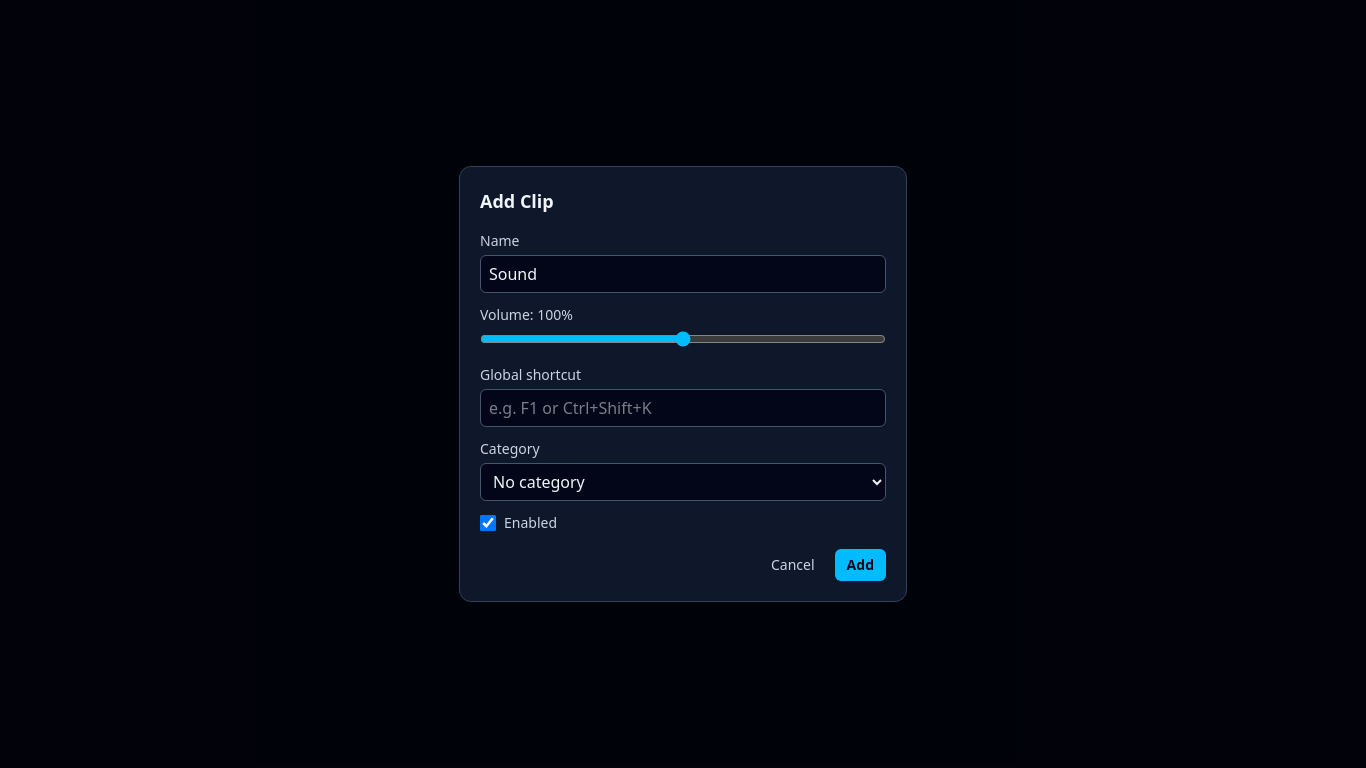
Test case: ClipDialog (create mode) › empty name shows an error and does not import
The width and height of the screenshot is (1366, 768).
Clear the field labelled "Name" at (683, 274), box [480,255,886,293]
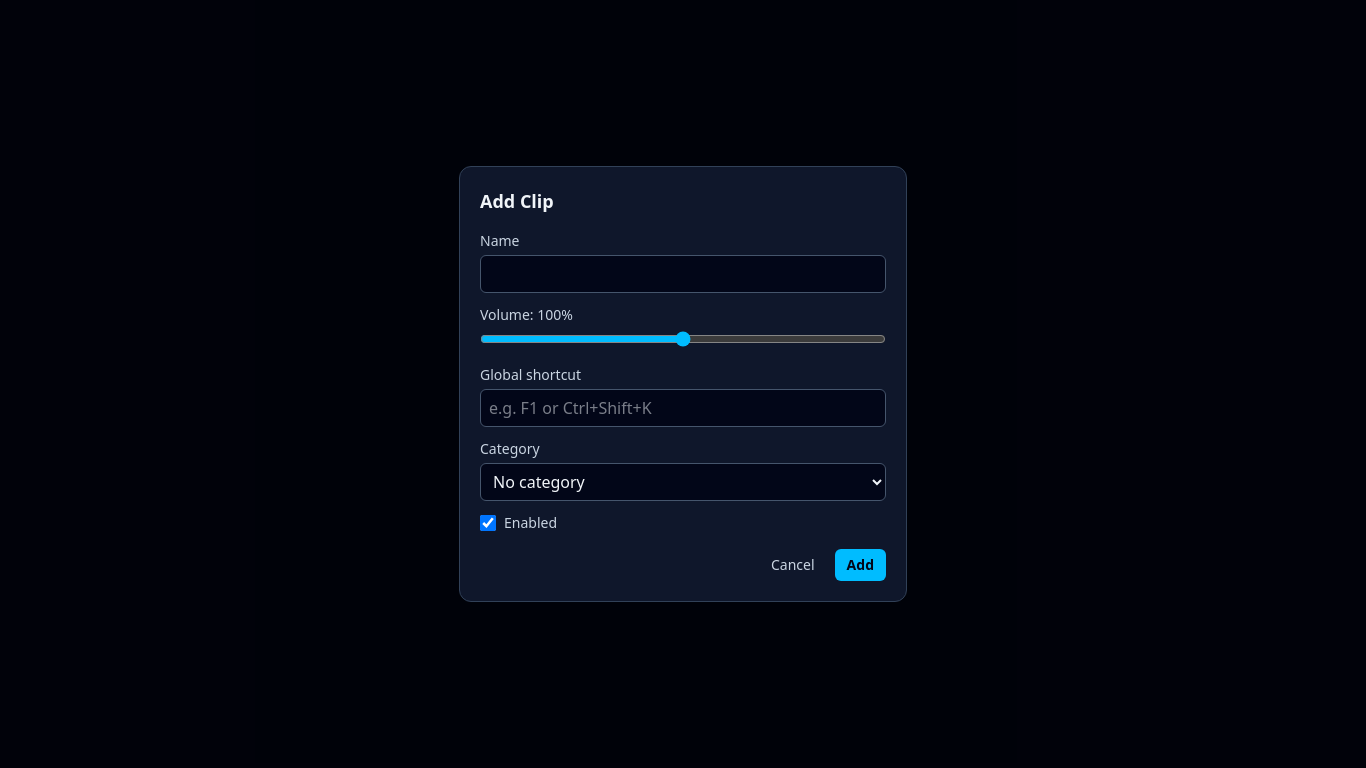
Submit the form, box [459,166,907,602]
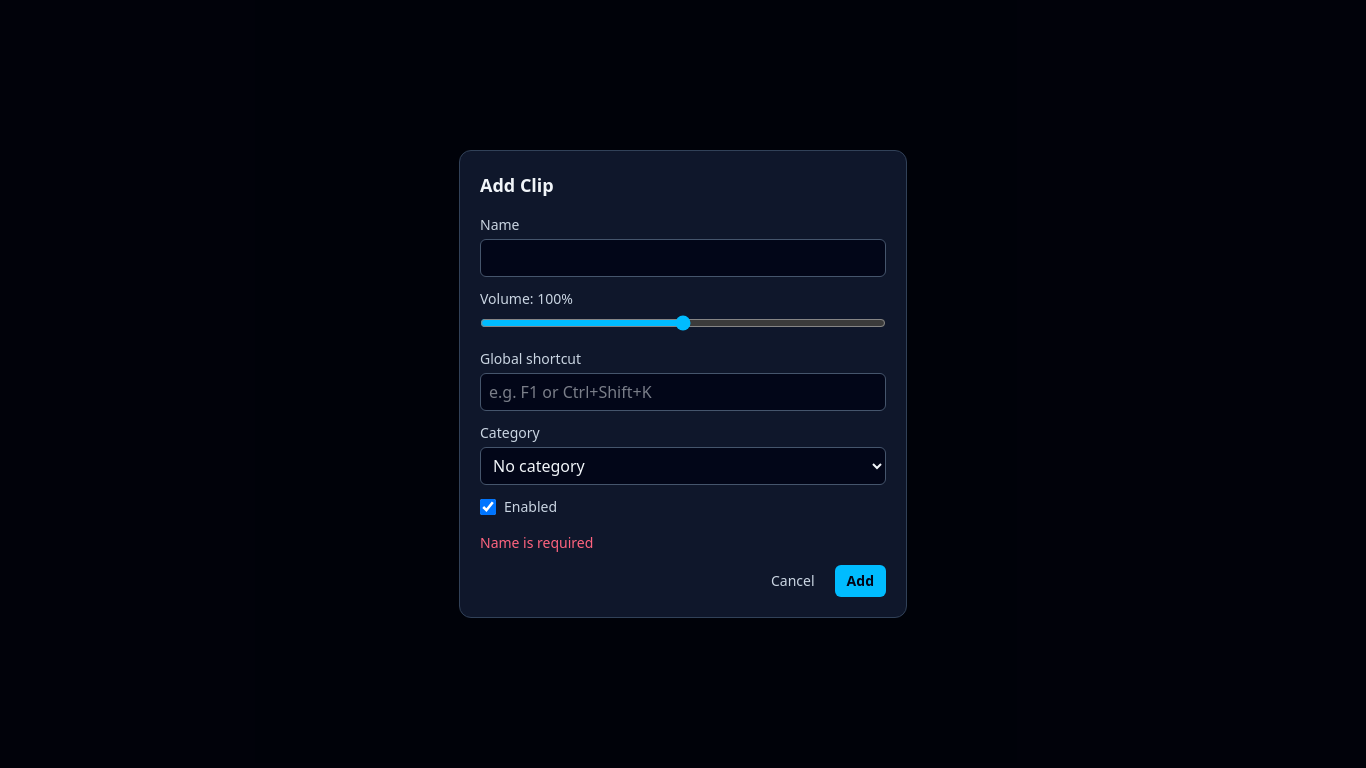
Expected: the text "Name is required" is shown, [480,533,593,552]
